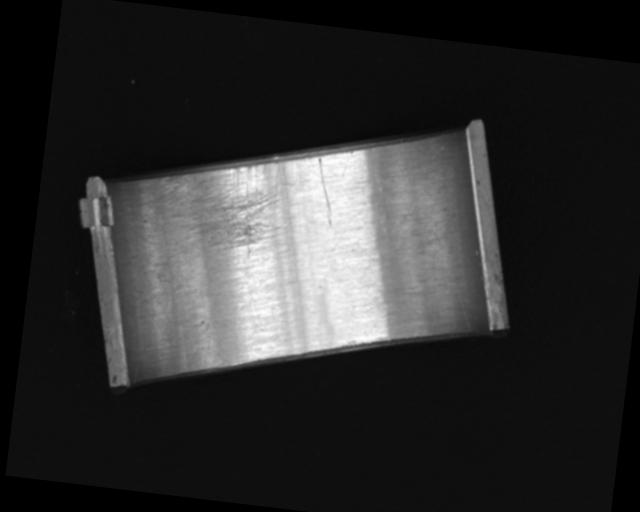nick: (422, 232, 480, 332), (310, 157, 340, 225)
scratch: (155, 147, 285, 259)
